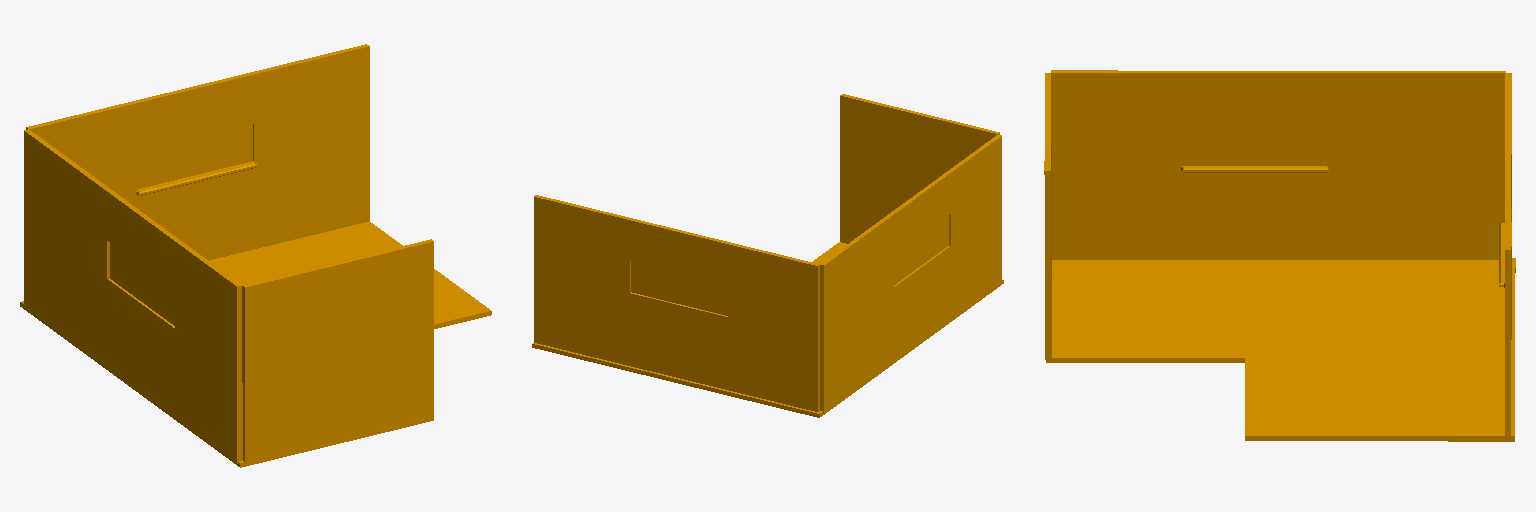
The robot description file, URDF, robot "room":
<?xml version="1.0"?>
<robot name="room">
  <link name="room">
    <visual>
      <!-- <origin xyz="0.0 0.0 0.0" rpy="0.0 0.0 0.0"/>
      <geometry>
        <mesh filename="Room.obj" scale="0.01 0.01 0.01"/>
      </geometry> -->

      <origin xyz="0.0 0.0 0.0" rpy="1.57 0.0 1.57"/>
      <geometry>
        <mesh filename="Room.obj" scale="0.03 0.03 0.03"/>
      </geometry>
    </visual>
    <!-- <collision>
      <origin xyz="0.0 0.0 0.0"/>
      <geometry>
        <mesh filename="Room.obj" scale="0.01 0.01 0.01"/>
      </geometry>
    </collision> -->
  </link>
</robot>

--- Facts derived from the render (not from the file) ---
Views: 3 orthographic renders of the robot side by side, from view 1: azimuth 30°, elevation 25°; view 2: azimuth 150°, elevation 25°; view 3: azimuth 270°, elevation 25°.
Model room with 1 links and 0 joints (none), rooted at room, posed all joints at 0.
Visible links, largest first — view 1: room; view 2: room; view 3: room.
Boxes of the visible links, x1=… form: room: x1=20, y1=44, x2=491, y2=467; room: x1=532, y1=94, x2=1003, y2=417; room: x1=1044, y1=70, x2=1515, y2=441.
Size in the robot's own frame: 10.3 by 11.4 by 5.12 metres.
1 mesh visuals loaded from 1 distinct referenced files (1 OBJ).